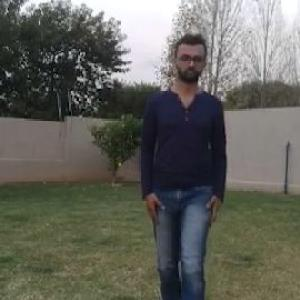follow: (144, 43, 222, 299)
